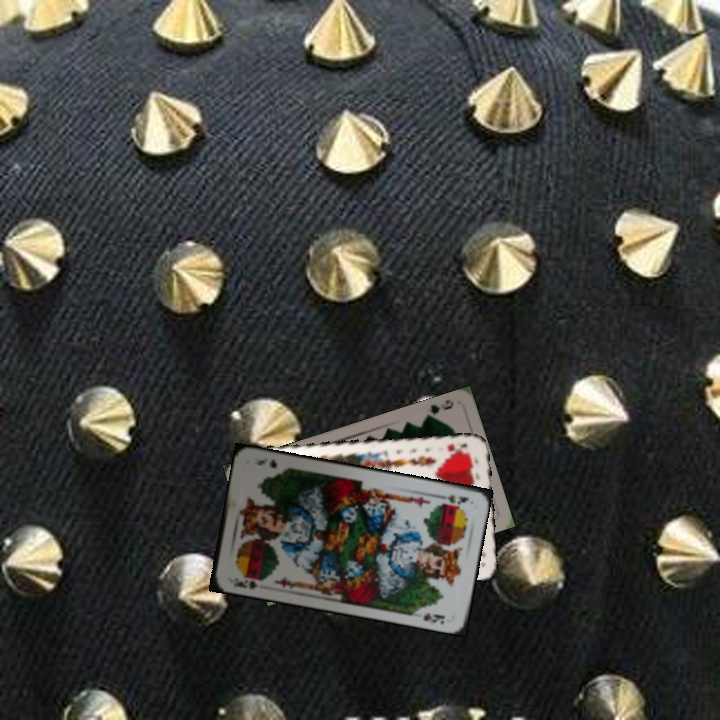G9: (421, 395, 456, 423)
HK: (443, 439, 470, 457)
SK: (433, 490, 471, 507), (230, 574, 260, 592)
